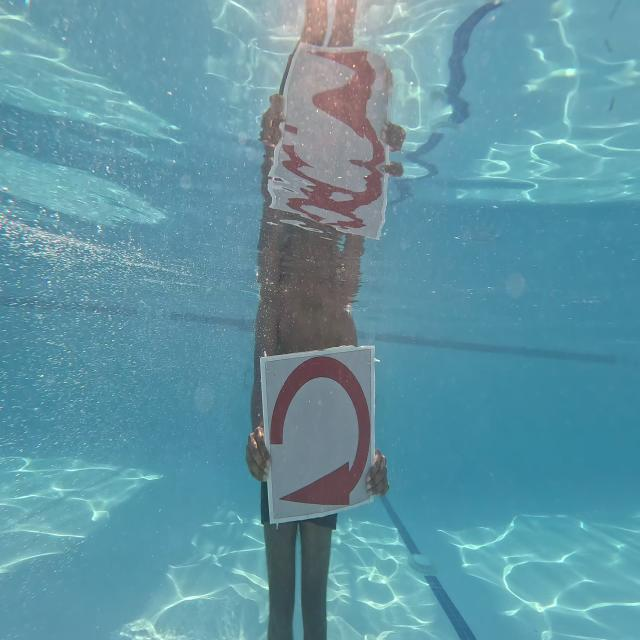red_side: (257, 354, 386, 522)
